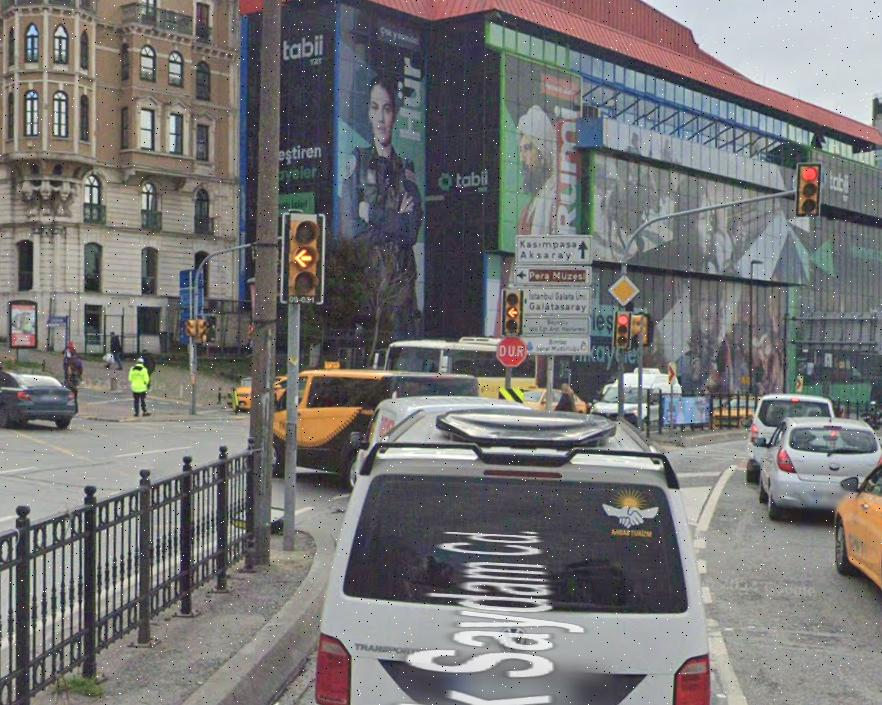redlight: (614, 310, 630, 348)
stop: (497, 337, 526, 366)
yellowlight: (283, 214, 322, 301), (503, 289, 523, 335)
